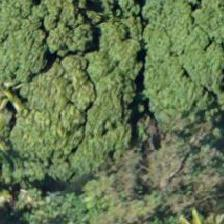coconut_tree: (0, 43, 54, 133)
